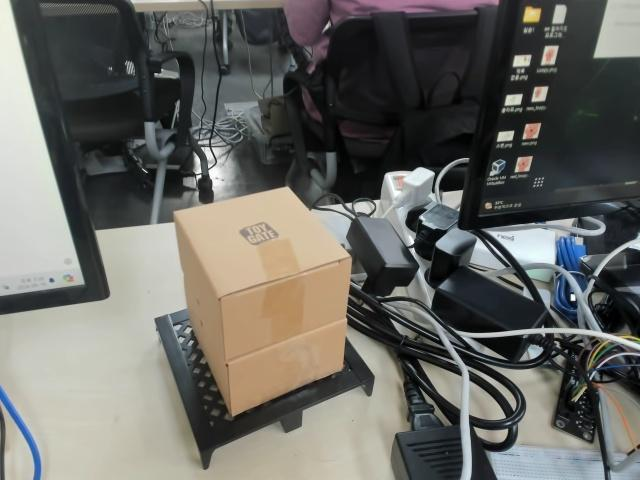box: (151, 185, 376, 469)
